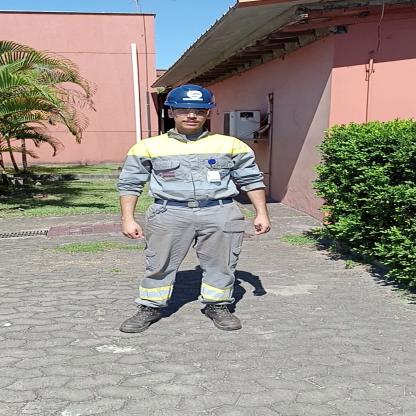Capacete: (164, 82, 212, 108)
